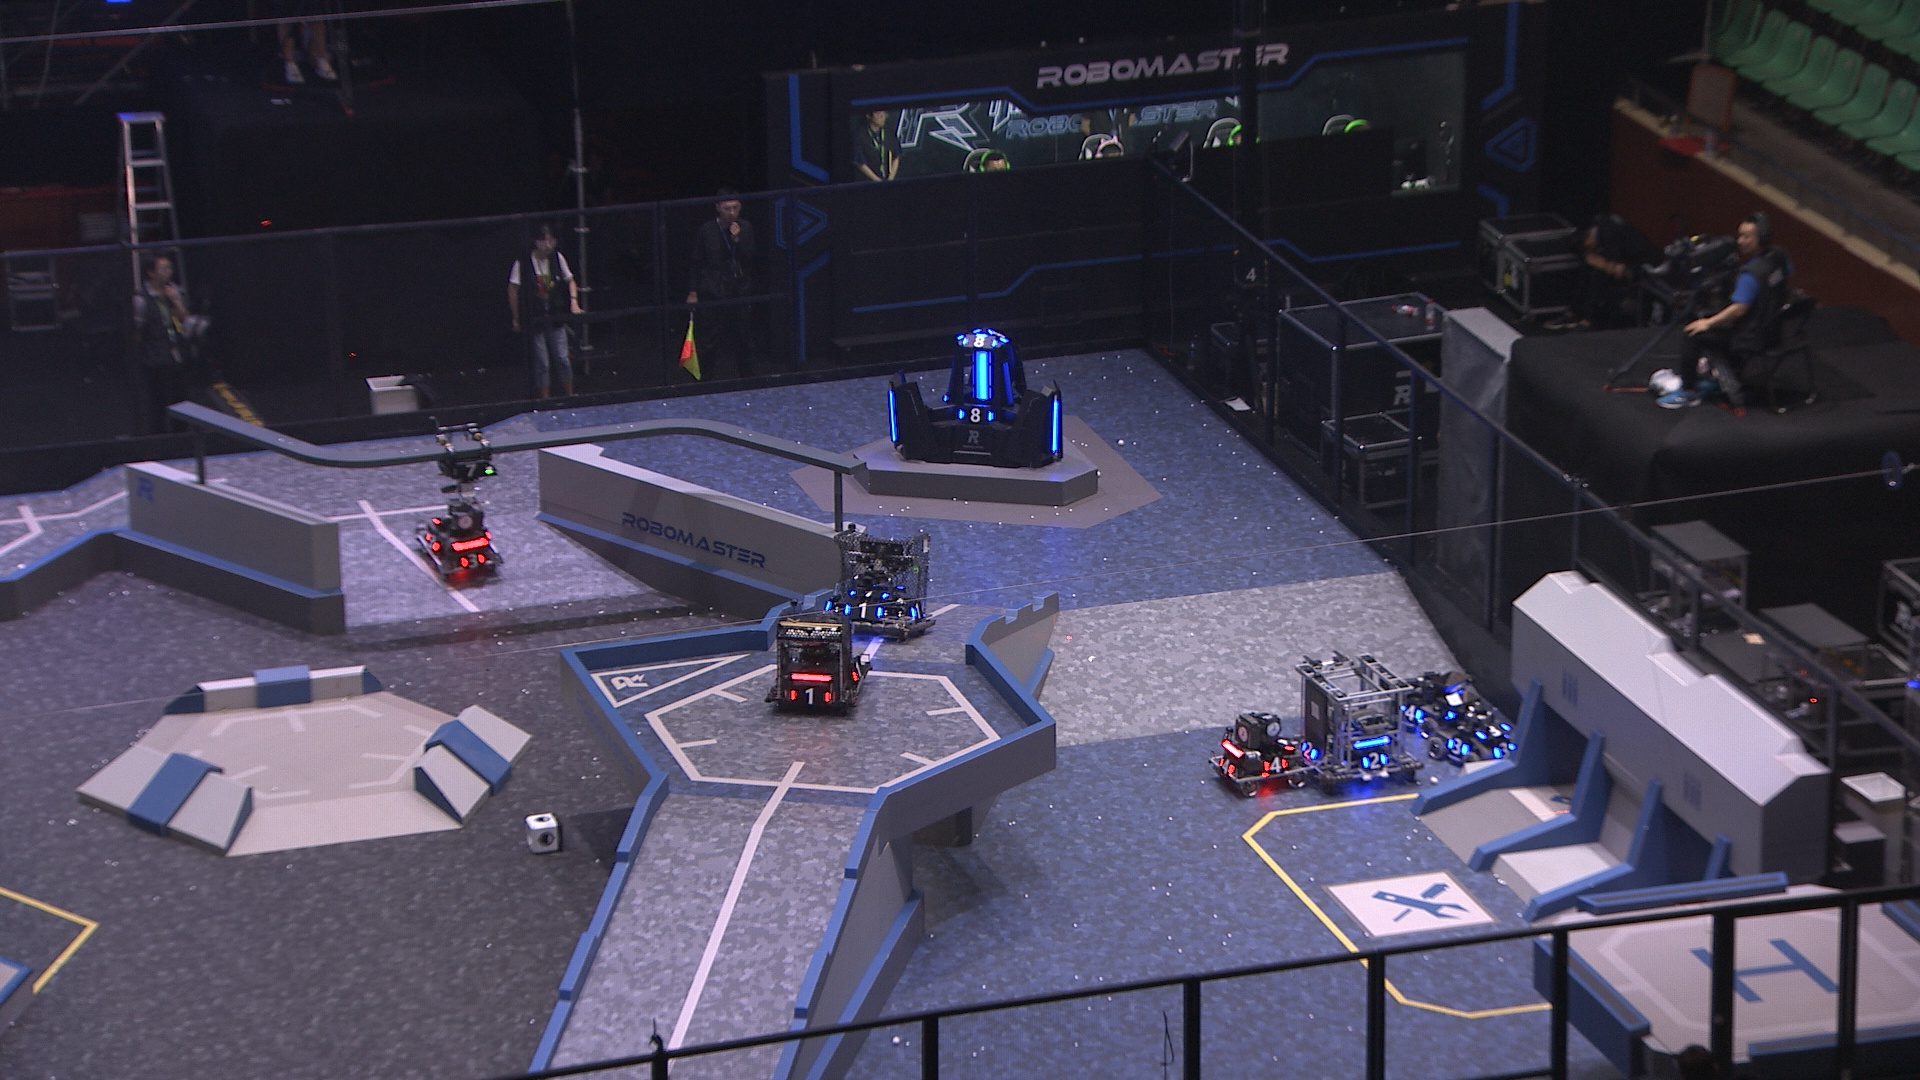armor: (968, 348, 996, 404), (448, 458, 495, 481), (1046, 396, 1063, 456), (843, 600, 887, 622), (787, 687, 832, 705), (884, 386, 898, 443), (847, 585, 891, 603), (1474, 719, 1510, 740), (956, 406, 996, 423), (1360, 752, 1391, 771), (1002, 363, 1015, 407), (1262, 754, 1290, 775), (458, 550, 487, 570), (1215, 756, 1238, 778), (1447, 736, 1472, 757), (849, 657, 868, 684), (1273, 733, 1296, 754), (964, 334, 998, 348), (1491, 740, 1516, 760), (422, 527, 442, 553), (1299, 740, 1319, 764), (907, 599, 926, 622), (1399, 704, 1424, 721), (988, 327, 1007, 343)
base: (880, 323, 1069, 467)
car: (1288, 646, 1432, 796), (825, 518, 948, 640), (764, 597, 880, 716), (1205, 708, 1315, 800), (414, 489, 506, 583), (1423, 688, 1522, 770), (1390, 665, 1482, 737)
watcher: (423, 411, 498, 506)
